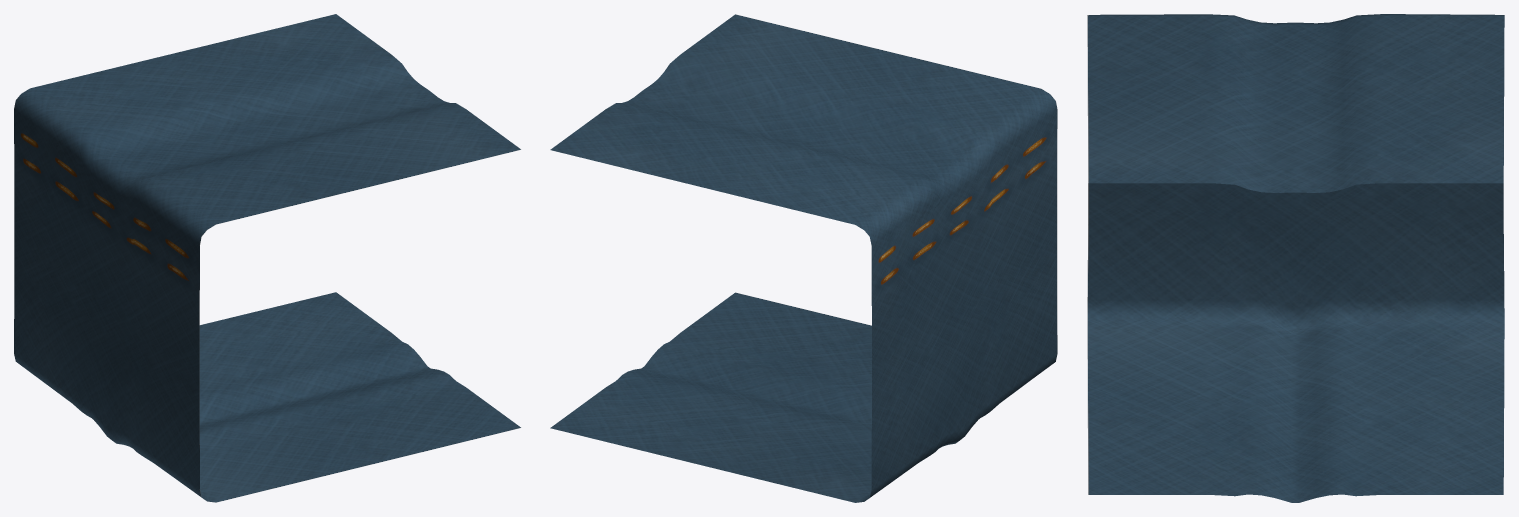
Rendered from tl1_flymid.FBX.
3 renders of one model, left to right at view 1: azimuth 30°, elevation 25°; view 2: azimuth 150°, elevation 25°; view 3: azimuth 270°, elevation 25°, orthographic. The views are drawn at different scales.
Parts seen in each view (by area): view 1: tl_endcurveR004; view 2: tl_endcurveR004; view 3: tl_endcurveR004.
Part boxes in pixels (bbox=[...]): tl_endcurveR004: bbox=[14, 14, 521, 502]; tl_endcurveR004: bbox=[550, 14, 1057, 502]; tl_endcurveR004: bbox=[1087, 14, 1504, 502].
Size of the model in its own units: 100 by 84.71 by 100.
